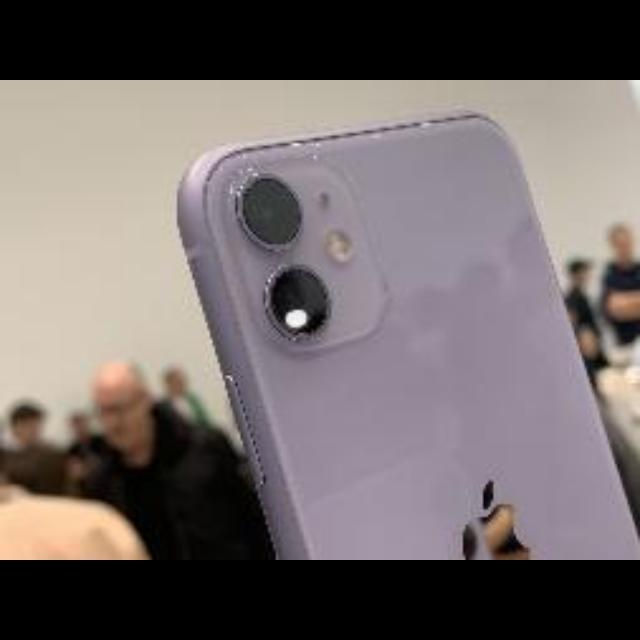phone: (180, 117, 640, 561)
